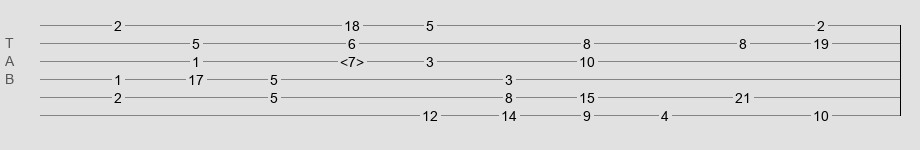1: (114, 72, 122, 82), (192, 54, 200, 64)
10: (579, 54, 595, 64), (813, 108, 829, 118)
12: (422, 108, 438, 118)
14: (501, 108, 517, 118)
15: (579, 90, 595, 100)
17: (188, 72, 204, 82)
18: (344, 18, 360, 28)
19: (813, 36, 829, 46)
2: (114, 90, 122, 100), (114, 18, 122, 28), (817, 18, 825, 28)
21: (735, 90, 751, 100)
3: (426, 54, 434, 64), (505, 72, 513, 82)
4: (661, 108, 669, 118)
5: (192, 36, 200, 46), (270, 72, 278, 82), (270, 90, 278, 100), (426, 18, 434, 28)
6: (348, 36, 356, 46)
8: (505, 90, 513, 100), (583, 36, 591, 46), (739, 36, 747, 46)
9: (583, 108, 591, 118)
harmonic: (340, 54, 364, 64)
